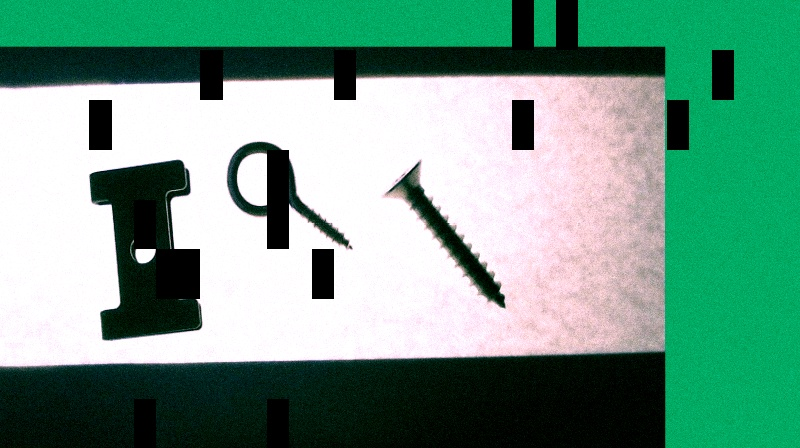O001: (227, 140, 356, 255)
O002: (86, 161, 205, 343)
S001: (383, 159, 508, 310)
